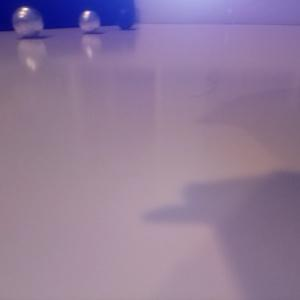alive_ball: (12, 6, 43, 37), (79, 9, 101, 33)
dead_ball: (116, 7, 135, 28)
